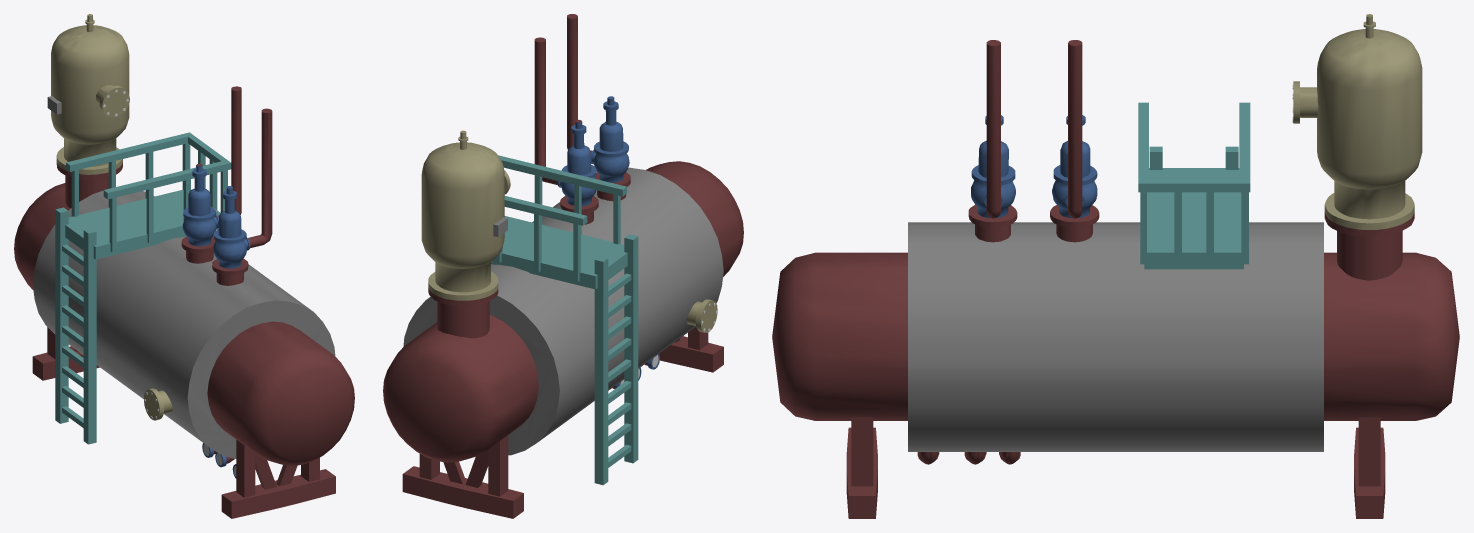
File: tec4.fbx
The picture shows the model from 3 angles, left to right: view 1: azimuth 30°, elevation 25°; view 2: azimuth 150°, elevation 25°; view 3: azimuth 270°, elevation 25°; orthographic projection. The views are drawn at different scales.
Parts seen in each view (by area): view 1: tec4_LOD0; view 2: tec4_LOD0; view 3: tec4_LOD0.
Boxes of the visible parts, box(x1,y1,x2,y2) form: tec4_LOD0: box(14, 14, 354, 518); tec4_LOD0: box(383, 14, 743, 518); tec4_LOD0: box(772, 14, 1459, 518).
Size of what is drawn, in the model's own units: 355 by 742 by 986.
